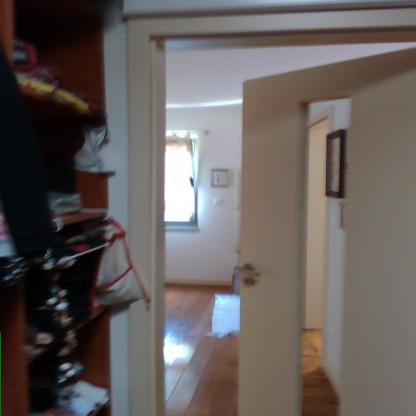semi: (132, 11, 402, 415)
